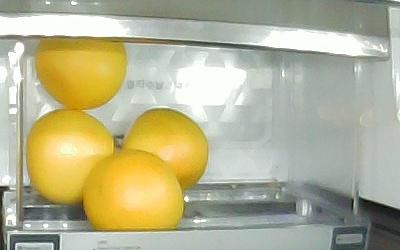grapefruit: (27, 107, 117, 204), (83, 149, 185, 229), (122, 108, 209, 188), (35, 37, 127, 110)
